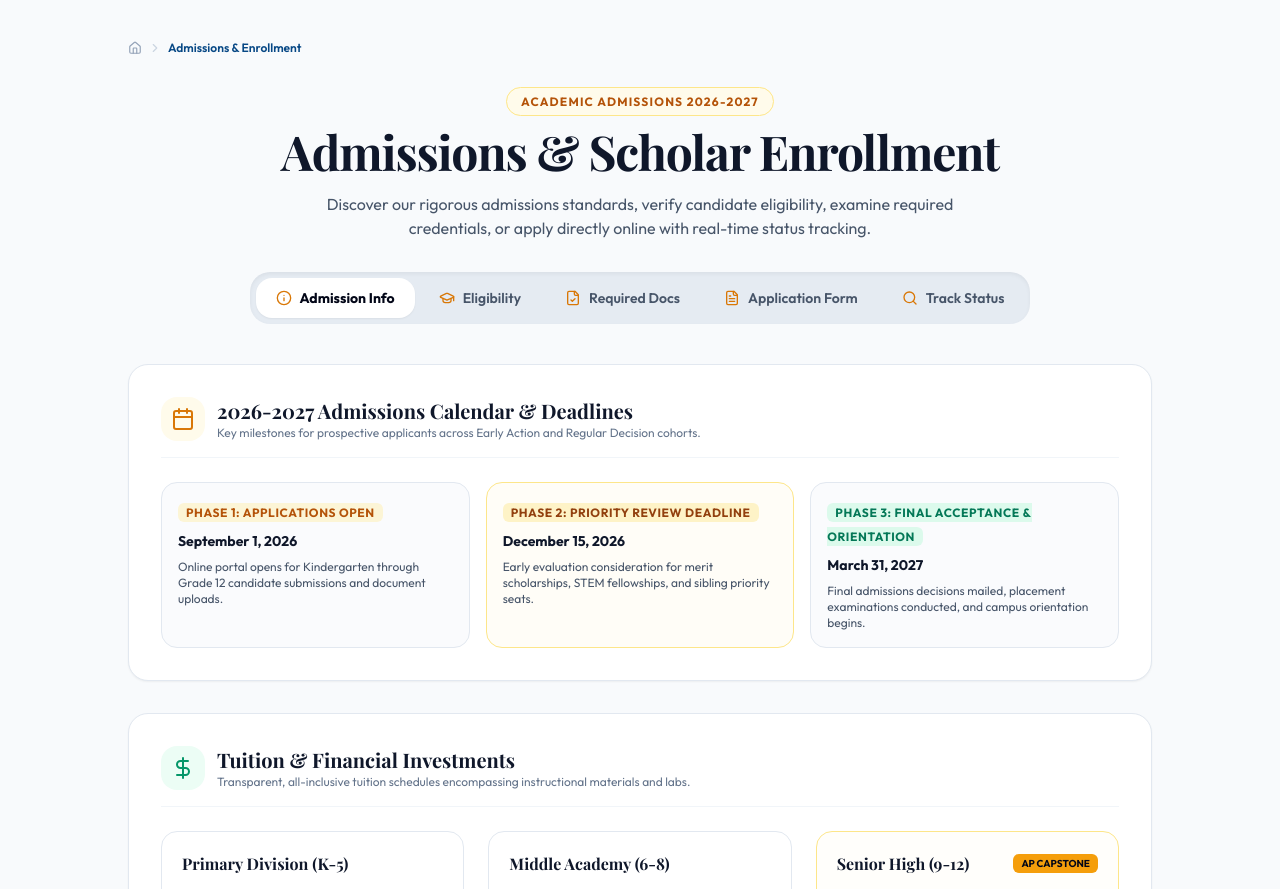
Test: Phase 14 — Complete Admissions Workflow Test Suite › 1. Public Admissions Portal — Informational & Policy Views › switches to Required Docs tab and displays mandatory credentials checklist and security rules
Click the button "Required Docs": (623, 298) [545,278,700,318]
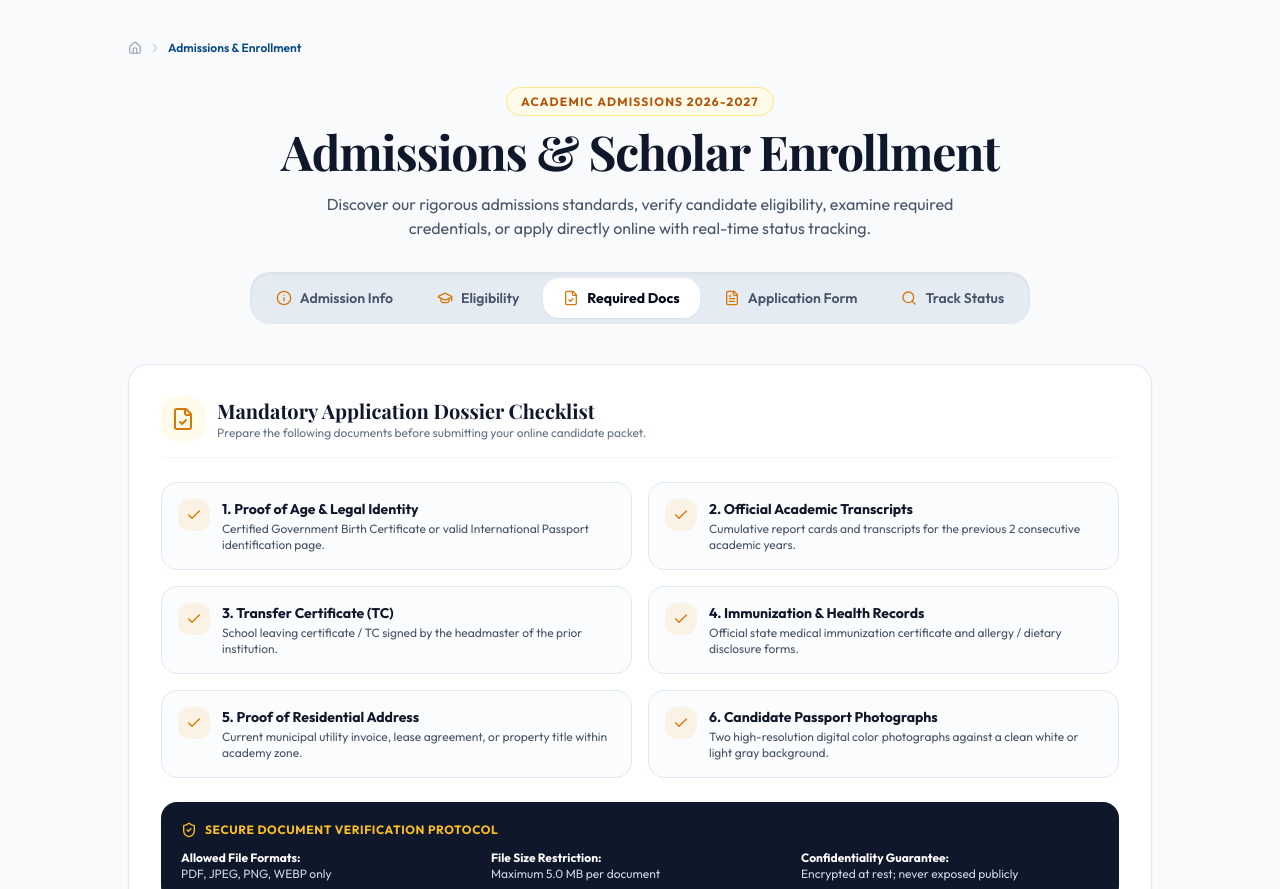
Check: the heading "Mandatory Application Dossier Checklist" is shown, box [217,397,646,425]
Check: the heading "1. Proof of Age & Legal Identity" is shown, box [222,500,418,518]
Check: the heading "2. Official Academic Transcripts" is shown, box [709,500,913,518]
